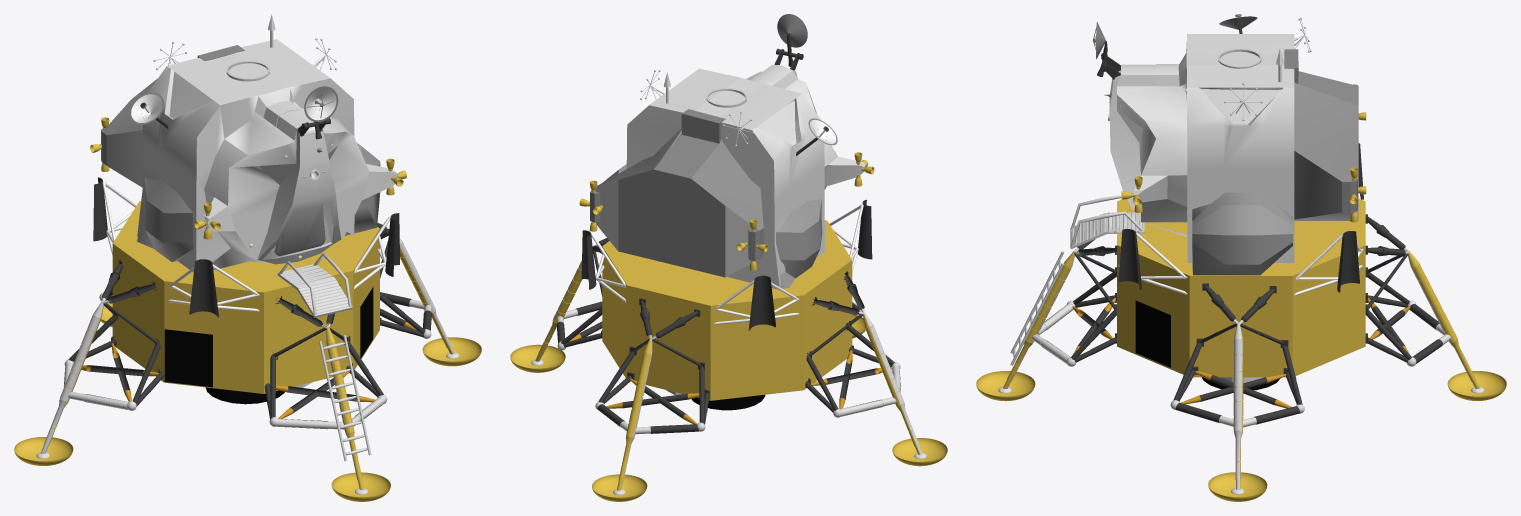
File: apollo-lunar-lander-objaverse.glb
The picture shows the model from 3 angles, left to right: view 1: azimuth 30°, elevation 25°; view 2: azimuth 150°, elevation 25°; view 3: azimuth 270°, elevation 25°; orthographic projection. The views are drawn at different scales.
Parts seen in each view (by area): view 1: descent_stage, ascent_stage, leg, engine_nozzle; view 2: ascent_stage, descent_stage, leg, engine_nozzle; view 3: descent_stage, ascent_stage, leg.
Boxes of the visible parts, bbox=[...] form: descent_stage: bbox=[14, 143, 481, 501]; ascent_stage: bbox=[90, 14, 406, 272]; leg: bbox=[60, 222, 459, 410]; engine_nozzle: bbox=[205, 387, 284, 404]; ascent_stage: bbox=[579, 14, 874, 288]; descent_stage: bbox=[510, 164, 947, 501]; leg: bbox=[531, 238, 904, 494]; engine_nozzle: bbox=[691, 394, 765, 410]; descent_stage: bbox=[976, 143, 1506, 501]; ascent_stage: bbox=[1093, 14, 1366, 262]; leg: bbox=[1170, 214, 1484, 494].
Bounding box in the file's own units: 0.6 × 0.4679 × 0.5999.
